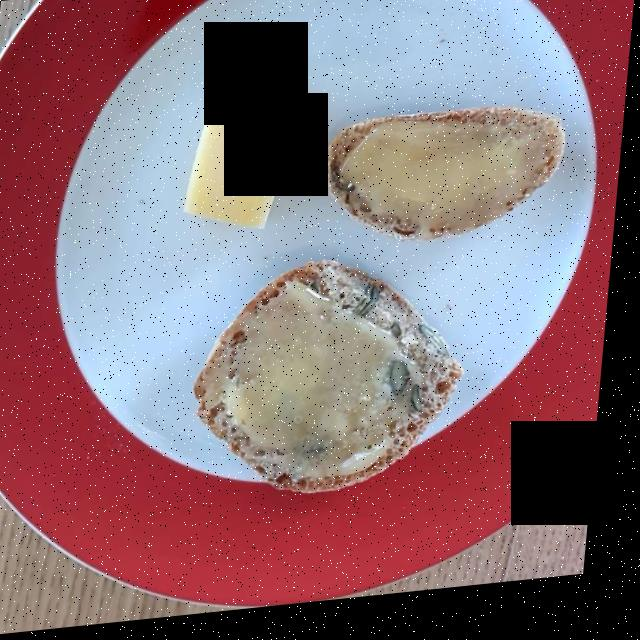bread-grain: (209, 95, 583, 489)
cheese: (177, 88, 304, 240)
honey: (234, 126, 552, 470)
